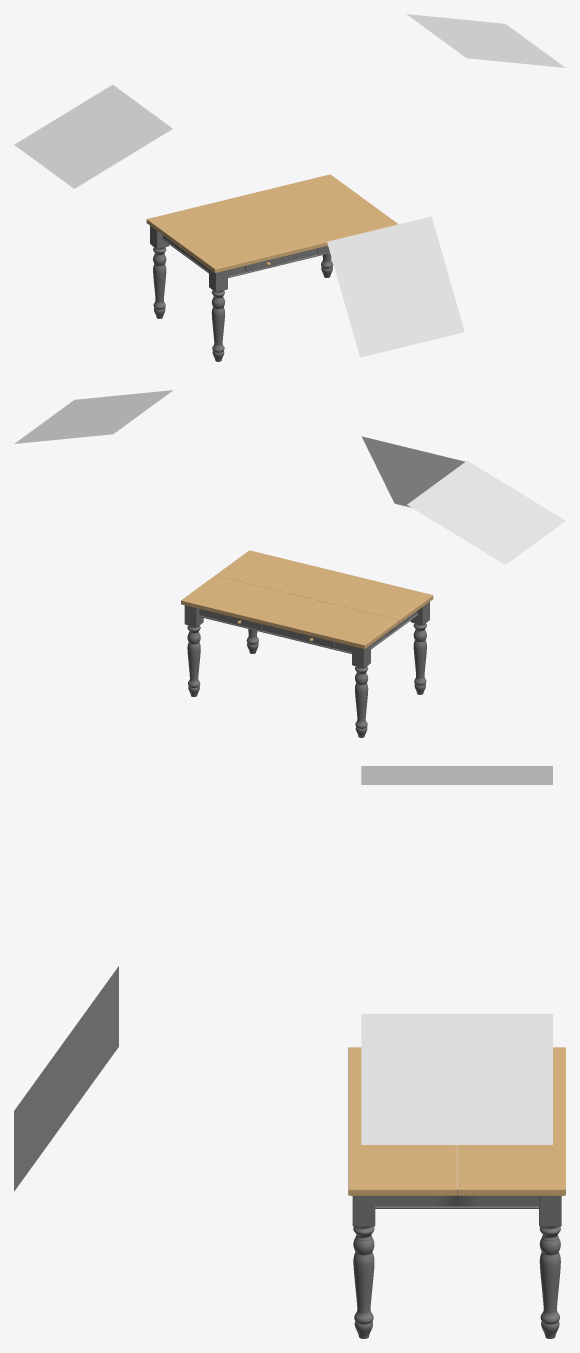
Rendered from Table.fbx.
3 views of the same model, one above another, from view 1: azimuth 30°, elevation 25°; view 2: azimuth 150°, elevation 25°; view 3: azimuth 270°, elevation 25° (orthographic). The views are drawn at different scales.
Visible parts, largest first — view 1: Circle.001, Plane.003, Plane.001, Plane.002; view 2: Circle.001, Plane.001, Plane.002, Plane.003; view 3: Plane.002, Circle.001, Plane.003, Plane.001.
Part boxes in pixels (box(x1,y1,x2,y2)): Circle.001: box(146, 174, 398, 361); Plane.003: box(327, 216, 464, 357); Plane.001: box(14, 84, 172, 188); Plane.002: box(406, 14, 565, 67); Circle.001: box(181, 550, 433, 737); Plane.001: box(407, 460, 565, 564); Plane.002: box(14, 390, 173, 443); Plane.003: box(361, 436, 465, 507); Plane.002: box(361, 1014, 552, 1144); Circle.001: box(348, 1047, 565, 1338); Plane.003: box(14, 966, 118, 1191); Plane.001: box(361, 766, 552, 784).
Size of what is drawn, in the model's own units: 940 by 445 by 576.
